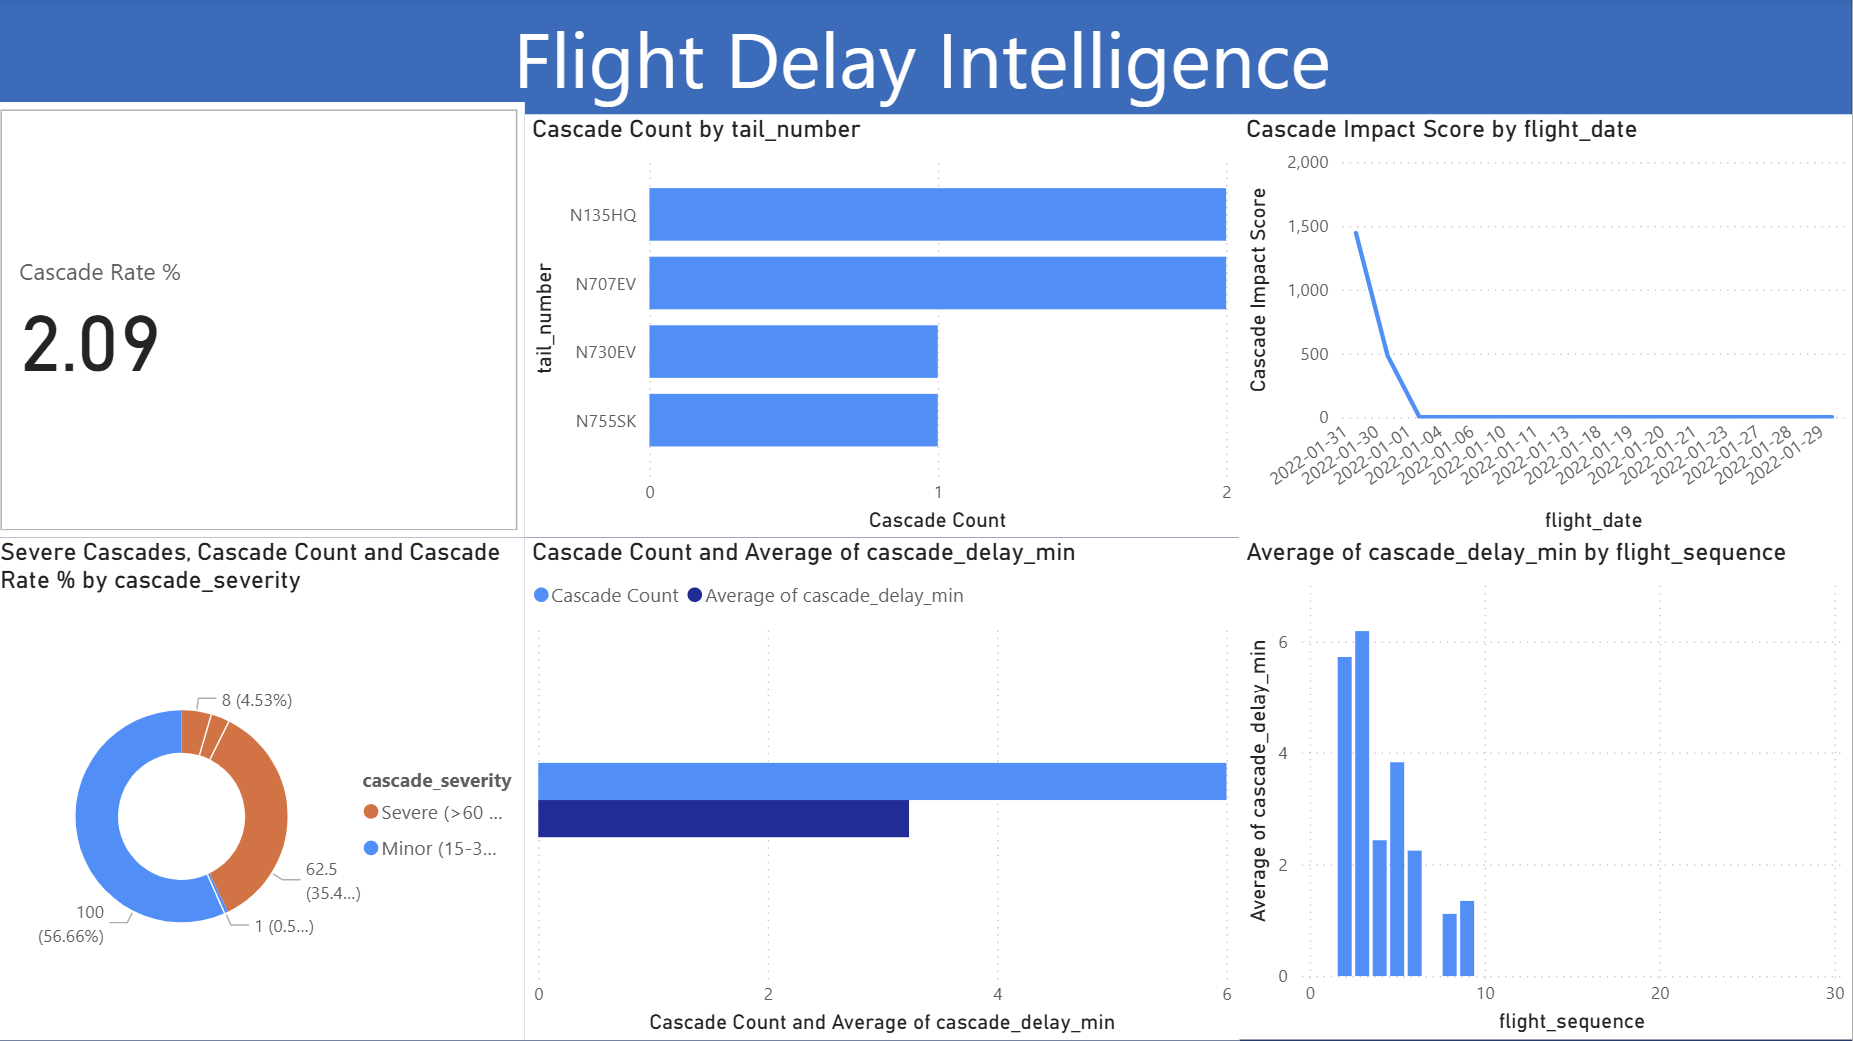

The dashboard page shown, as its layout file describes it:
{"tool":"powerbi","page":{"name":"Cascade Delay Analysis","canvas":[1280,720],"ordinal":4},"visuals":[{"type":"textbox","box":[0,0,1280,80.9],"z":0},{"type":"cardVisual","fields":{"Data":["dim_airline.Cascade Rate %"]},"box":[0,72.3,366.4,300.1],"z":1000},{"type":"donutChart","fields":{"Y":["dim_airline.Severe Cascades","dim_airline.Cascade Count","dim_airline.Cascade Rate %"],"Category":["fact_delay_cascade.cascade_severity"]},"box":[0,372.4,366.4,347.1],"z":2000},{"type":"clusteredBarChart","fields":{"Category":["fact_delay_cascade.tail_number"],"Y":["dim_airline.Cascade Count"]},"box":[366.4,80.8,491.8,291.7],"z":3000},{"type":"clusteredBarChart","fields":{"Y":["dim_airline.Cascade Count","Avg(fact_flight_delays.cascade_delay_min)"]},"box":[366,372,492,347],"z":4000},{"type":"lineChart","fields":{"Category":["fact_delay_cascade.flight_date"],"Y":["dim_airline.Cascade Impact Score"]},"box":[858,81,422,292],"z":5000},{"type":"clusteredColumnChart","fields":{"Category":["fact_flight_delays.flight_sequence"],"Y":["Avg(fact_flight_delays.cascade_delay_min)"]},"box":[858,373,422,346],"z":6000}]}

Visuals, with their boxes in screenshot pixels (x1, y1, x2, y2), scaled from the page's 1280x720 canvas onto the 1853x1041 screenshot:
textbox: {"x1": 0, "y1": 0, "x2": 1852, "y2": 117}
cardVisual - dim_airline.Cascade Rate %: {"x1": 0, "y1": 105, "x2": 530, "y2": 538}
donutChart - dim_airline.Severe Cascades x dim_airline.Cascade Count: {"x1": 0, "y1": 538, "x2": 530, "y2": 1040}
clusteredBarChart - fact_delay_cascade.tail_number x dim_airline.Cascade Count: {"x1": 530, "y1": 117, "x2": 1242, "y2": 539}
clusteredBarChart - dim_airline.Cascade Count x Avg(fact_flight_delays.cascade_delay_min): {"x1": 530, "y1": 538, "x2": 1242, "y2": 1040}
lineChart - fact_delay_cascade.flight_date x dim_airline.Cascade Impact Score: {"x1": 1242, "y1": 117, "x2": 1852, "y2": 539}
clusteredColumnChart - fact_flight_delays.flight_sequence x Avg(fact_flight_delays.cascade_delay_min): {"x1": 1242, "y1": 539, "x2": 1852, "y2": 1040}
